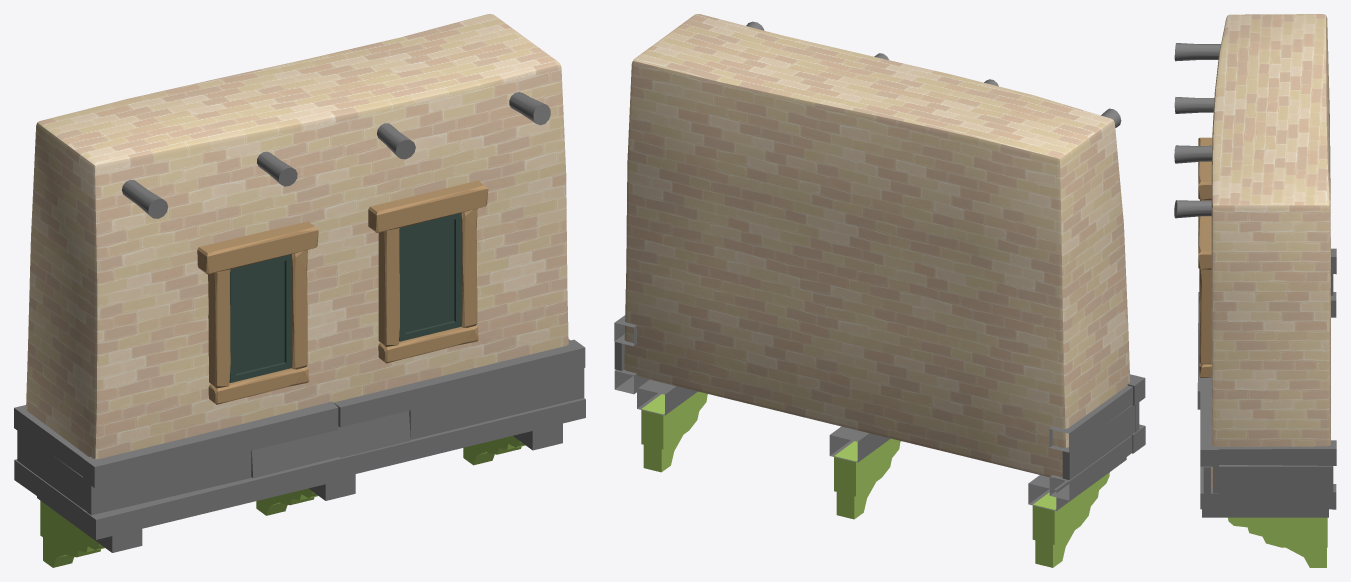
Rendered from SM_attachment_module_01.fbx.
3 renders of one model, left to right at view 1: azimuth 30°, elevation 25°; view 2: azimuth 150°, elevation 25°; view 3: azimuth 270°, elevation 25°, orthographic. The views are drawn at different scales.
Parts seen in each view (by area): view 1: Box451; view 2: Box451; view 3: Box451.
Part boxes in pixels (left/top/right/bottom): Box451: left=14, top=14, right=585, bottom=567; Box451: left=614, top=14, right=1145, bottom=567; Box451: left=1174, top=14, right=1336, bottom=567.
Size of the model in its own units: 209 by 180 by 71.03.
